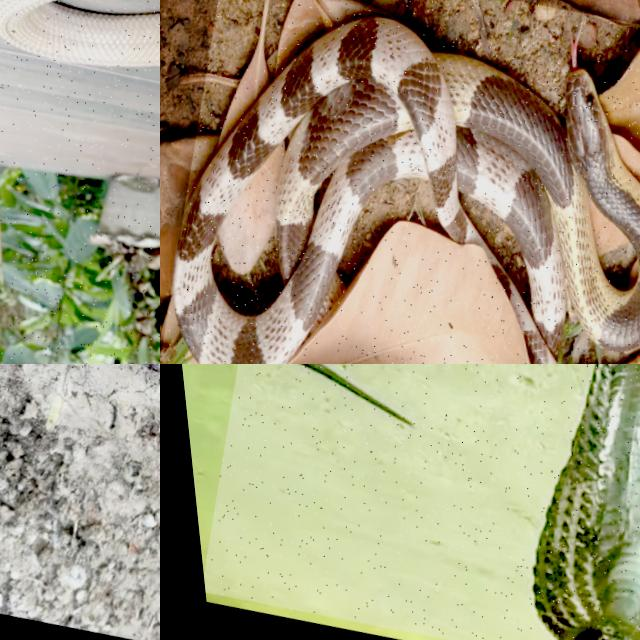Bungarus candidus: (173, 18, 639, 363), (148, 364, 159, 368)
Naja kaouthia: (0, 0, 159, 65)
Naja siamensis: (532, 364, 639, 639)
snake: (173, 18, 639, 363), (532, 364, 639, 639), (0, 0, 159, 65), (148, 364, 159, 368)
